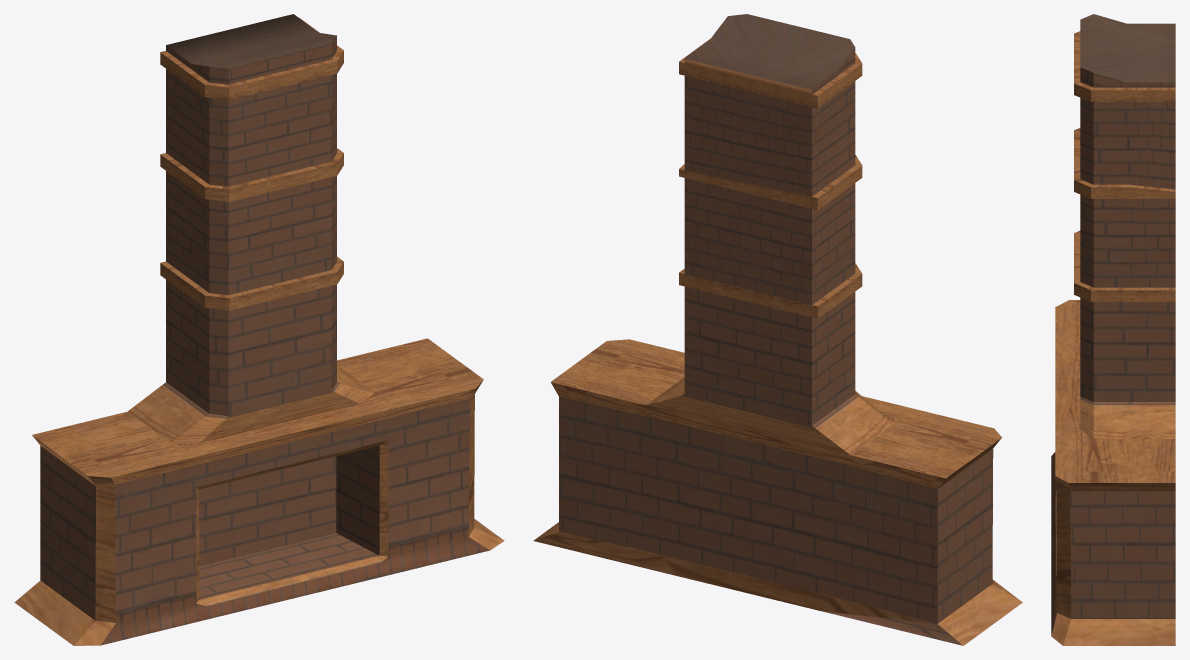
File: fireplace.glb
3 views of the same model, side by side, from view 1: azimuth 30°, elevation 25°; view 2: azimuth 150°, elevation 25°; view 3: azimuth 270°, elevation 25° (orthographic). The views are drawn at different scales.
Parts seen in each view (by area): view 1: Fireplace; view 2: Fireplace; view 3: Fireplace.
Part boxes in pixels (left/top/right/bottom): Fireplace: left=14, top=14, right=504, bottom=645; Fireplace: left=533, top=14, right=1022, bottom=645; Fireplace: left=1051, top=14, right=1175, bottom=645.
Size of the model in its own units: 6.55 by 7.7 by 1.73.
Materials: 1 (1 with a texture image).
